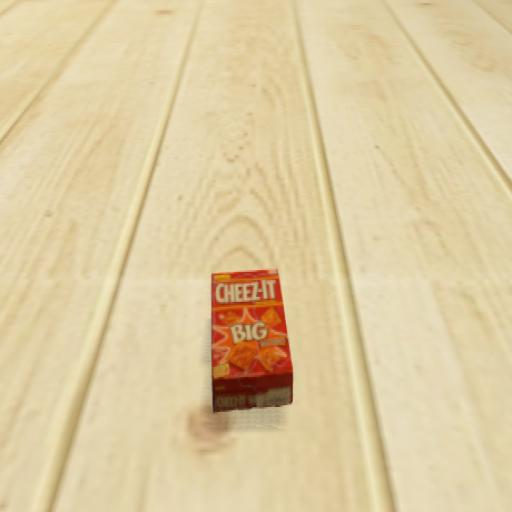BOX_R: (197, 204, 319, 449)
